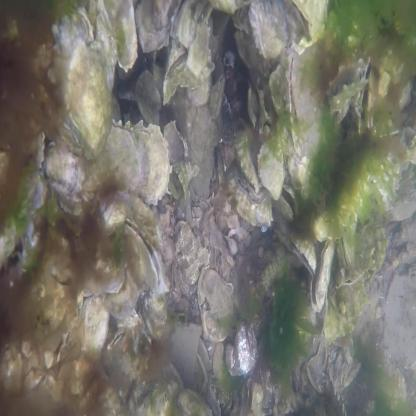3: (123, 216, 163, 293), (353, 56, 379, 134), (328, 59, 368, 109), (310, 240, 334, 317), (235, 166, 269, 204), (291, 237, 317, 278), (274, 185, 299, 224), (138, 299, 154, 343), (107, 328, 125, 350), (196, 0, 212, 24)
Oyster-Closed: (67, 40, 113, 151), (226, 158, 273, 227), (198, 268, 233, 340), (250, 0, 289, 57), (136, 0, 178, 50), (233, 126, 261, 192), (47, 146, 79, 195), (136, 70, 161, 126), (234, 321, 259, 376), (211, 75, 225, 115)
Oyster-Open: (104, 119, 171, 205), (102, 0, 138, 69), (256, 141, 285, 200), (60, 9, 92, 59), (83, 297, 109, 351), (83, 264, 126, 296), (170, 0, 198, 49), (178, 389, 214, 416), (248, 378, 265, 409)
